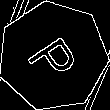P_NE: (22, 27, 84, 85)
